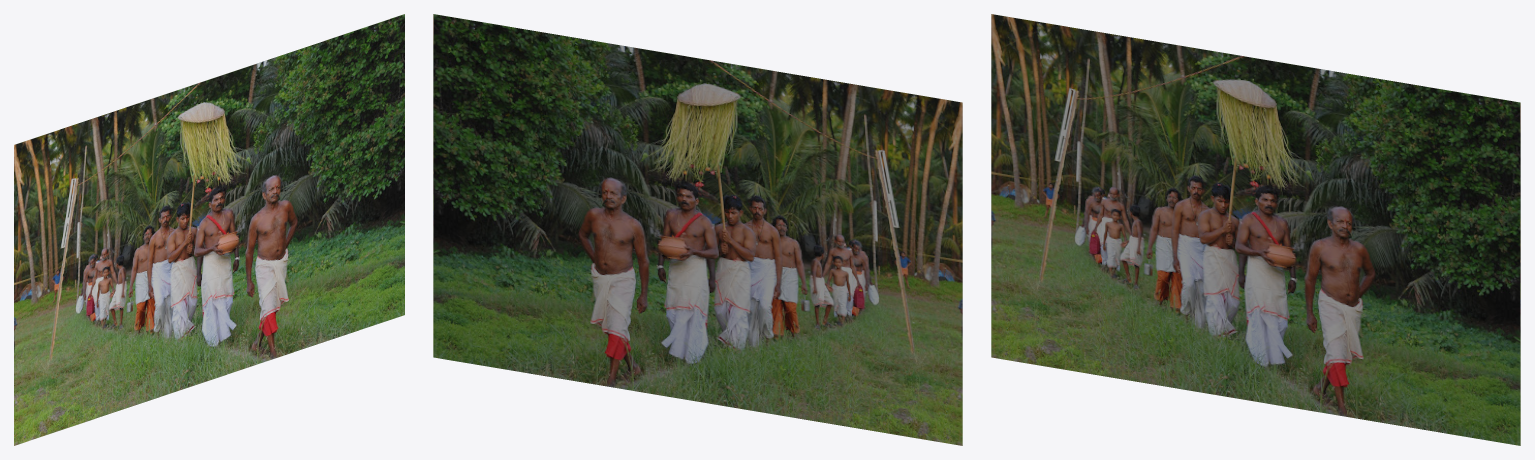
3 views of the same model, side by side, from view 1: azimuth 30°, elevation 25°; view 2: azimuth 150°, elevation 25°; view 3: azimuth 330°, elevation 25° (orthographic). The views are drawn at different scales.
Visible parts, largest first — view 1: 1; view 2: 1; view 3: 1.
Part boxes in pixels (bbox=[...]): 1: bbox=[14, 14, 404, 445]; 1: bbox=[433, 14, 962, 445]; 1: bbox=[991, 14, 1520, 445].
Size of the model in its own units: 2.2 by 1.48 by 0.3258.
Materials: 1 (1 with a texture image).
